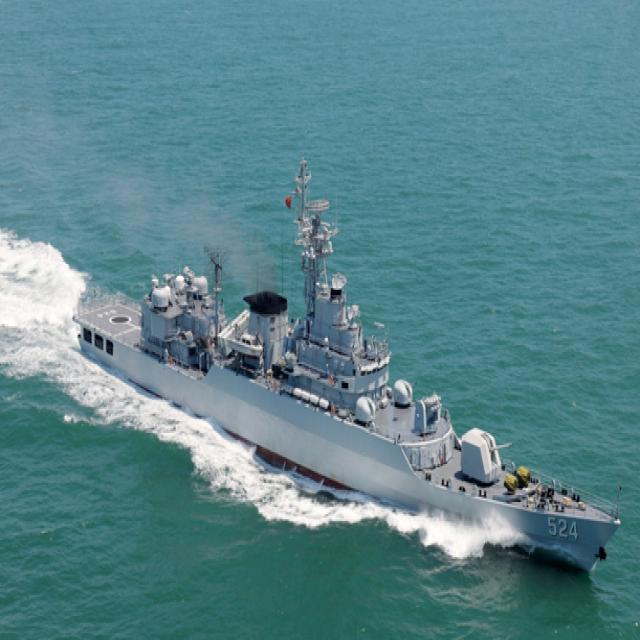navalvessels: (74, 173, 631, 582)
